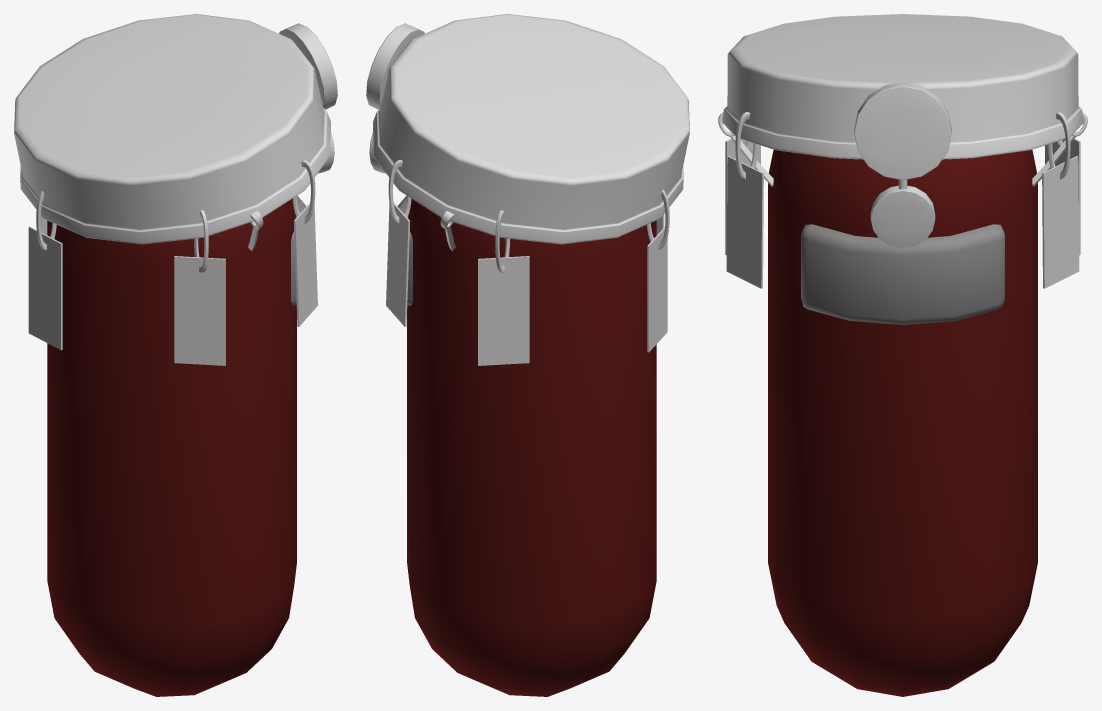
Rendered from MS_Prototype_Character.fbx.
The picture shows the model from 3 angles, left to right: view 1: azimuth 30°, elevation 25°; view 2: azimuth 150°, elevation 25°; view 3: azimuth 270°, elevation 25°; orthographic projection. The views are drawn at different scales.
Visible parts, largest first — view 1: Character; view 2: Character; view 3: Character.
Part boxes in pixels (x1,y1,x2,y2): Character: (14, 14, 337, 696); Character: (366, 14, 689, 696); Character: (718, 14, 1087, 696).
Size of the model in its own units: 91.31 by 191 by 95.79.
